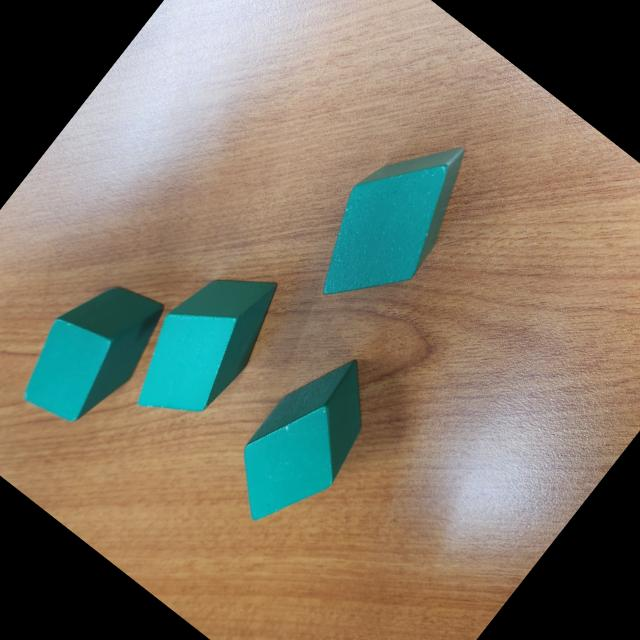green: (288, 110, 494, 332), (211, 337, 402, 545), (112, 242, 298, 444), (6, 258, 180, 442)
